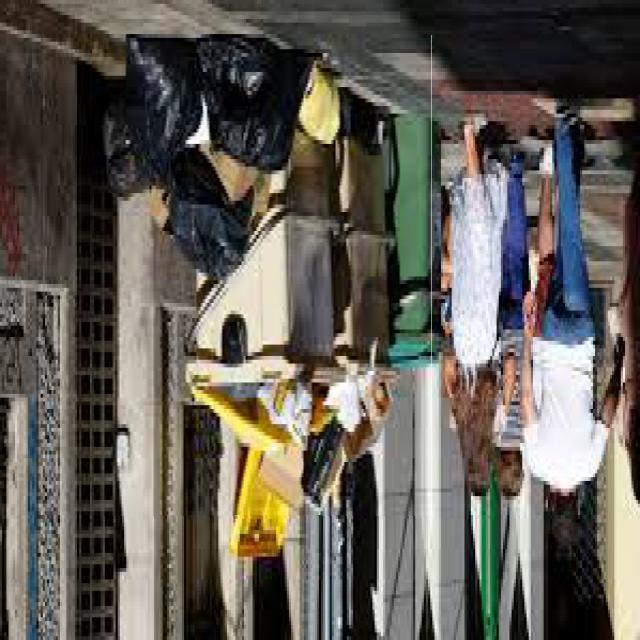Trashbag: (200, 24, 314, 164), (158, 168, 260, 282), (120, 28, 189, 162)
